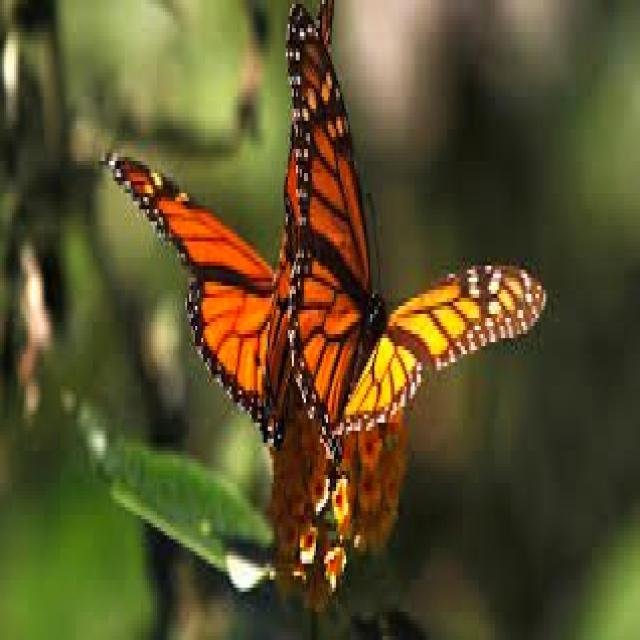butterfly: (288, 4, 545, 451), (107, 153, 298, 447)
